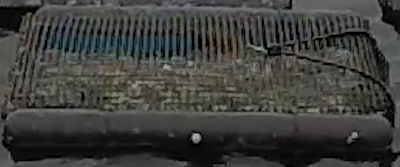bag: (3, 5, 397, 153)
